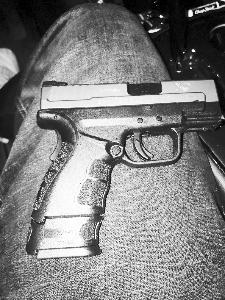handgun: (28, 78, 215, 260)
